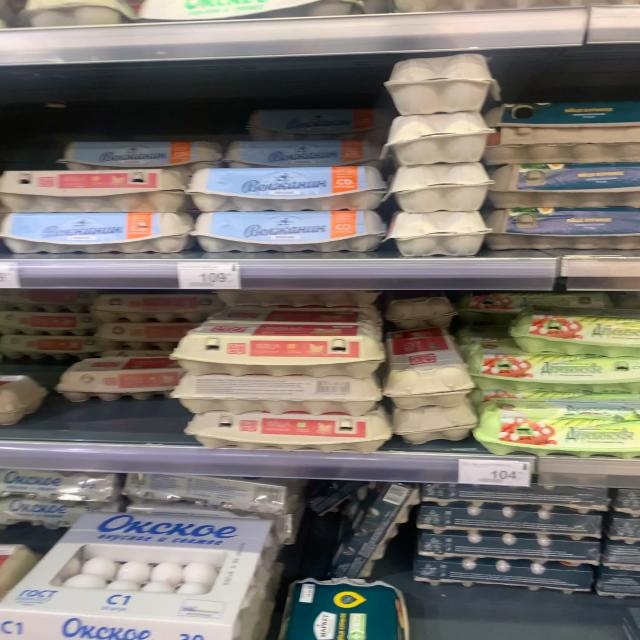egg box: (3, 516, 286, 638), (170, 325, 386, 376), (183, 406, 393, 452), (473, 400, 638, 458), (2, 210, 198, 255), (2, 168, 190, 214), (188, 167, 386, 210), (189, 211, 387, 253), (471, 351, 637, 399), (380, 328, 474, 408), (480, 205, 638, 251), (490, 160, 638, 207), (56, 355, 184, 403), (508, 311, 639, 357), (482, 100, 636, 139), (52, 138, 222, 170), (244, 106, 390, 142), (224, 138, 384, 166), (89, 291, 216, 322), (91, 318, 188, 350), (1, 336, 93, 361), (0, 312, 91, 335), (2, 290, 91, 310)
